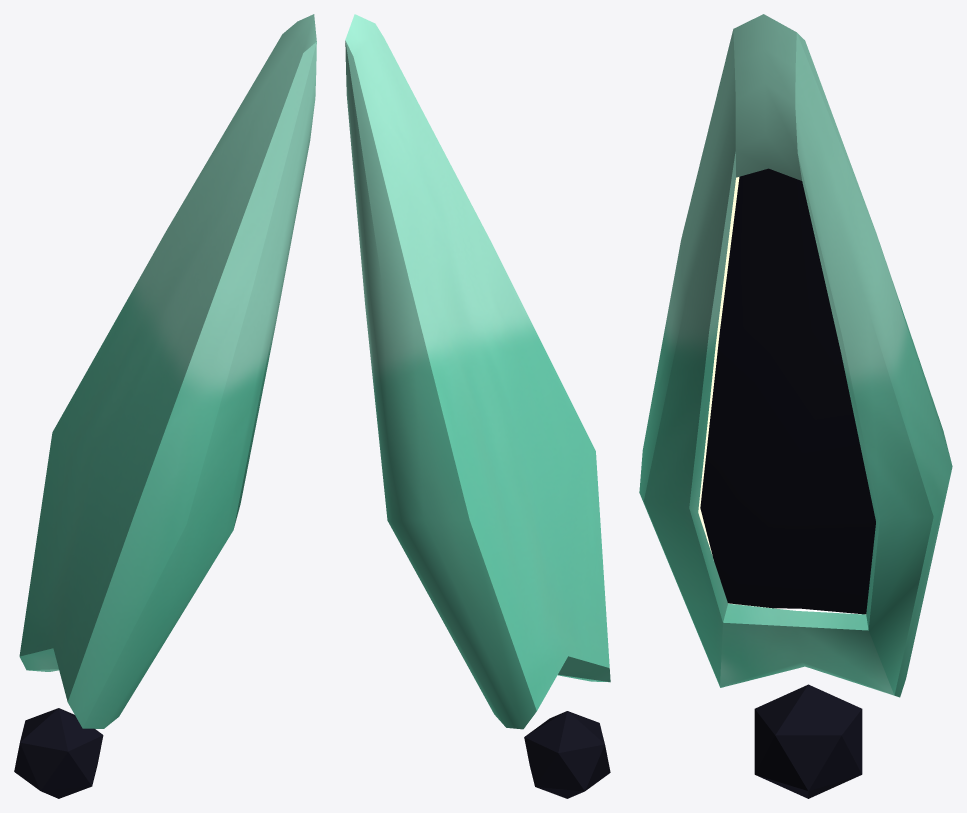
Rendered from CenouraOrelhaA.fbx.
3 renders of one model, left to right at view 1: azimuth 30°, elevation 25°; view 2: azimuth 150°, elevation 25°; view 3: azimuth 270°, elevation 25°, orthographic. The views are drawn at different scales.
Visible parts, largest first — view 1: OrelhaA; view 2: OrelhaA; view 3: OrelhaA.
Part boxes in pixels (bbox=[...]): OrelhaA: bbox=[14, 14, 316, 798]; OrelhaA: bbox=[345, 14, 610, 798]; OrelhaA: bbox=[639, 14, 952, 798].
Bounding box in the file's own units: 4.56 × 11.68 × 3.56.
